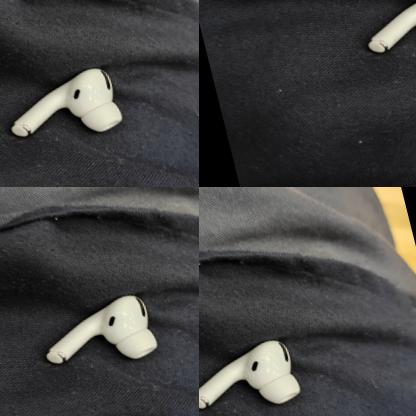Airpods: (40, 202, 170, 345), (0, 256, 124, 367), (199, 324, 332, 416), (343, 7, 416, 118)
